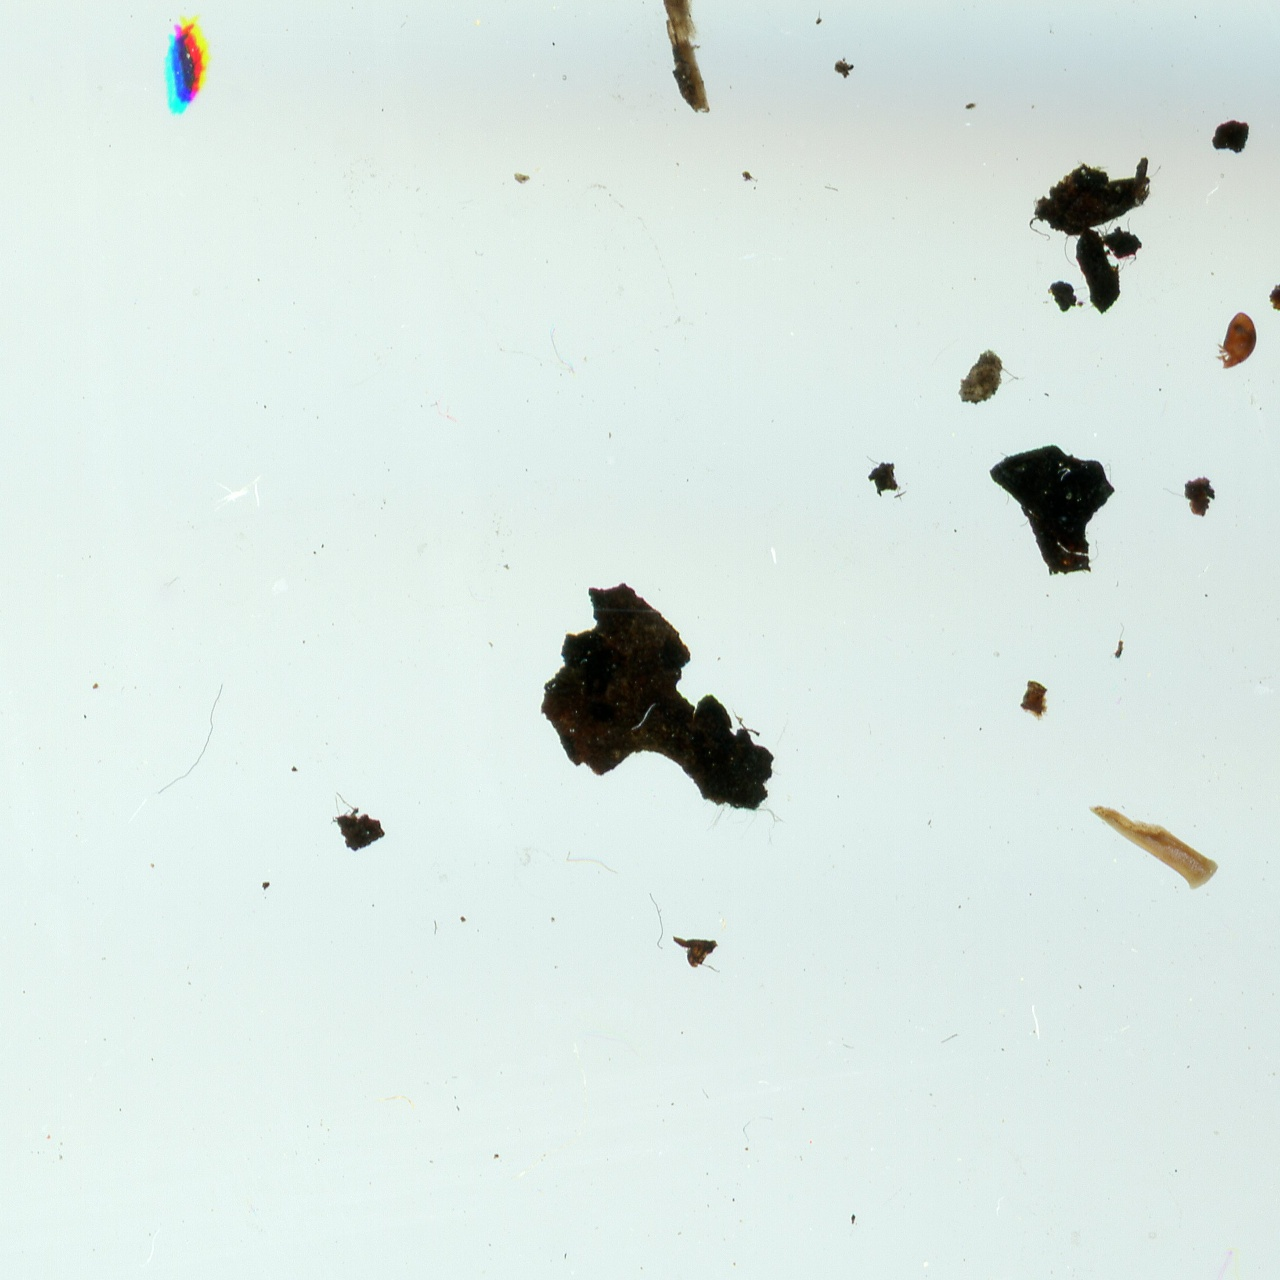arthropod: (168, 20, 211, 114), (1212, 308, 1259, 373)
